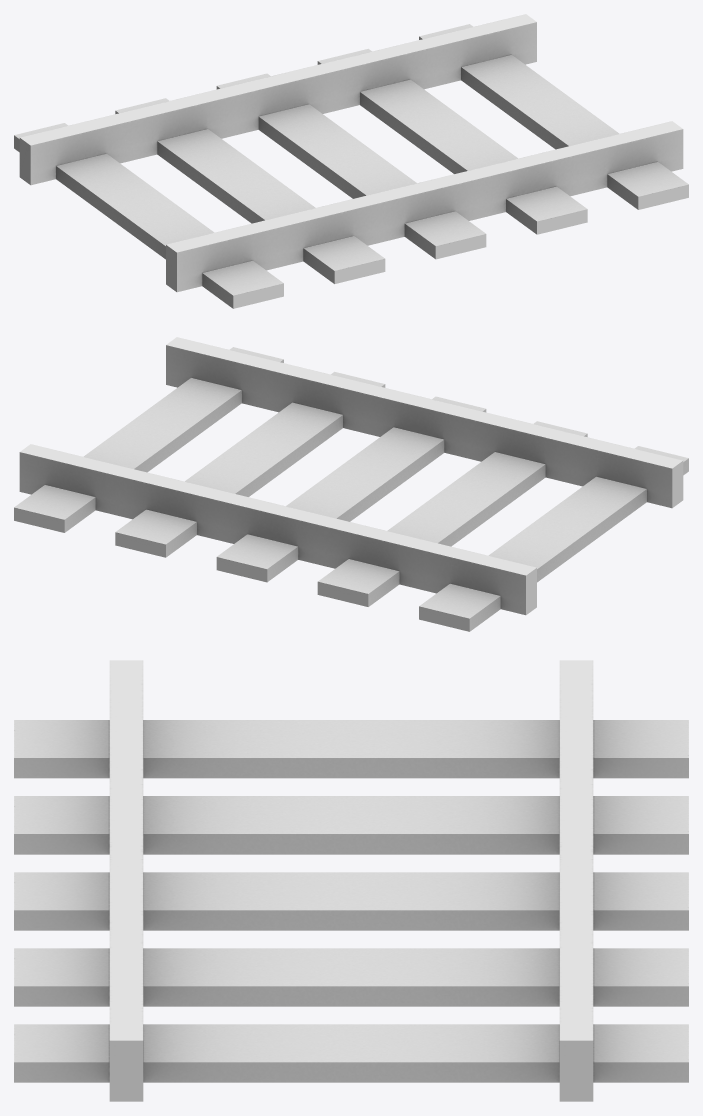
Rendered from Tracks.FBX.
The picture shows the model from 3 angles, top to bottom: view 1: azimuth 30°, elevation 25°; view 2: azimuth 150°, elevation 25°; view 3: azimuth 270°, elevation 25°; orthographic projection. The views are drawn at different scales.
Parts seen in each view (by area): view 1: m_Rail; view 2: m_Rail; view 3: m_Rail.
Part boxes in pixels (bbox=[...]): m_Rail: bbox=[14, 14, 688, 308]; m_Rail: bbox=[14, 337, 688, 631]; m_Rail: bbox=[14, 660, 688, 1101].
Bounding box in the file's own units: 400 × 300 × 30.
